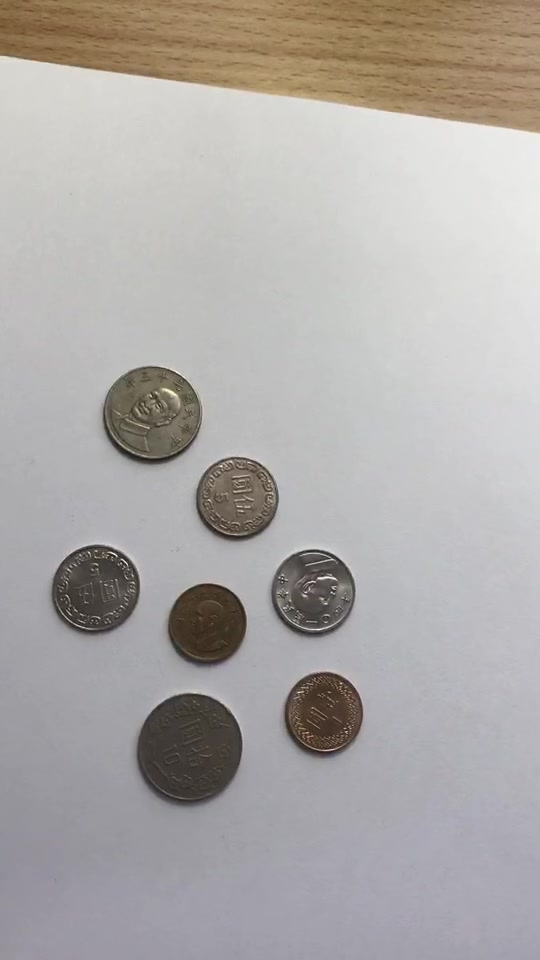1 dallar: (158, 575, 255, 670), (274, 664, 371, 759)
10 dallar: (124, 684, 248, 808), (90, 359, 208, 467)
5 dallar: (39, 542, 142, 644), (185, 446, 288, 548), (266, 541, 369, 643)
